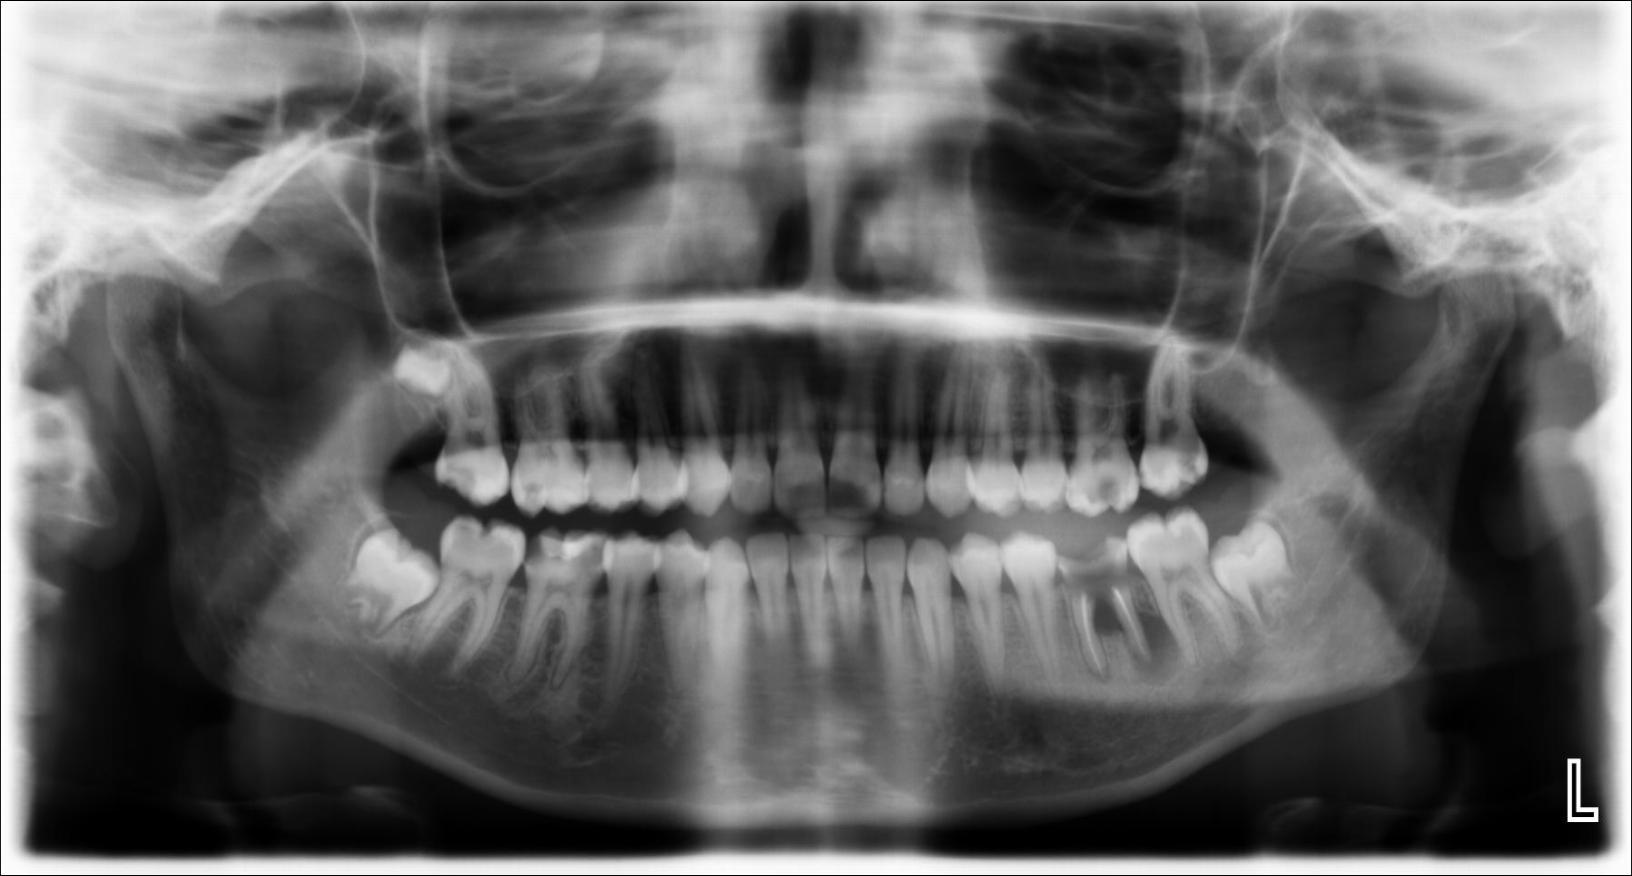radikuler: (1116, 585, 1219, 689)
